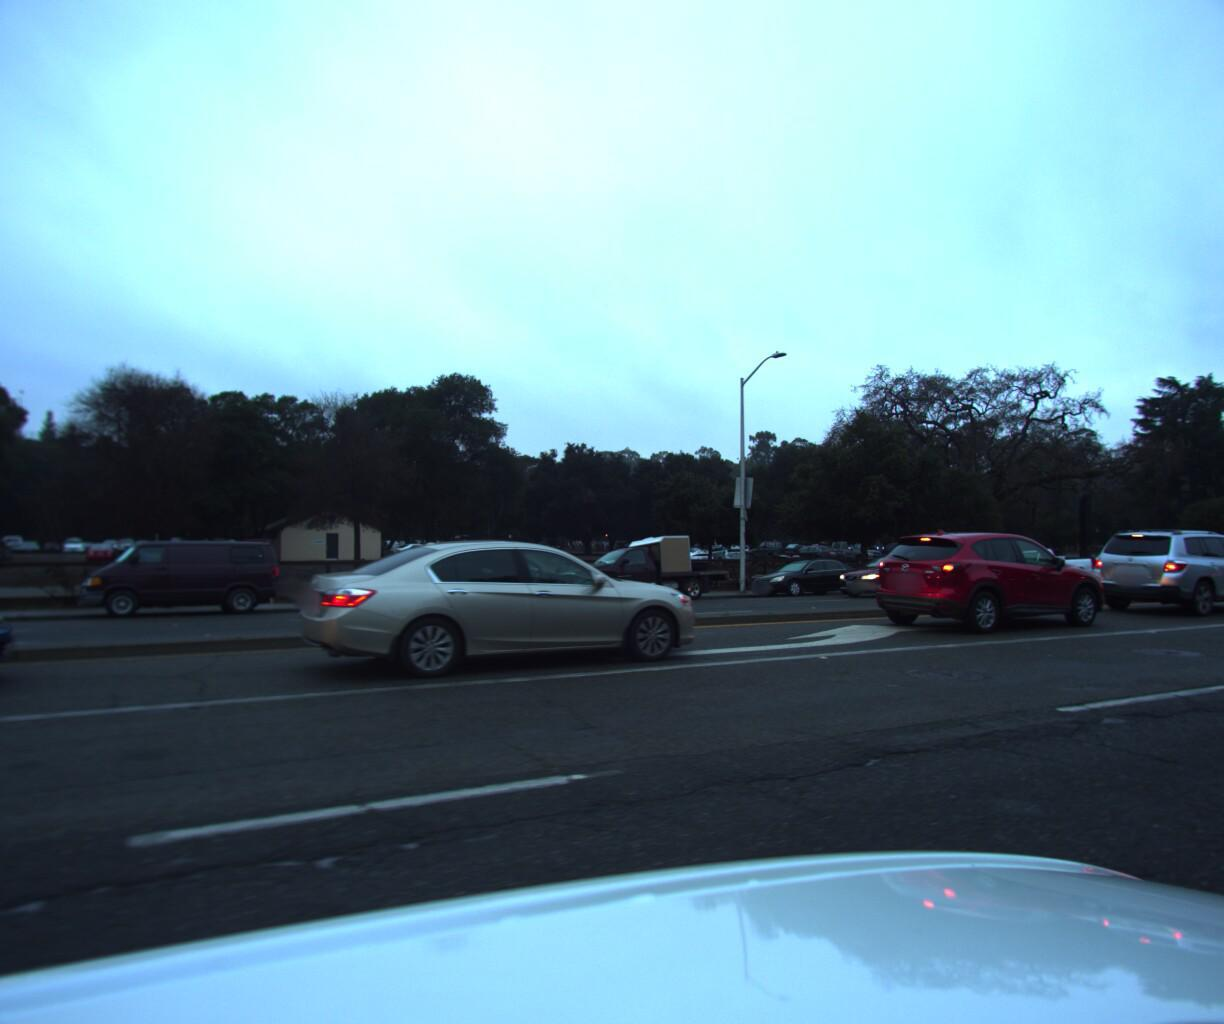car: (281, 526, 721, 695), (862, 523, 1114, 639), (67, 534, 288, 624), (544, 527, 731, 605), (1079, 520, 1224, 617), (833, 546, 970, 598), (738, 552, 867, 599), (972, 540, 1092, 589), (0, 525, 8, 748)
